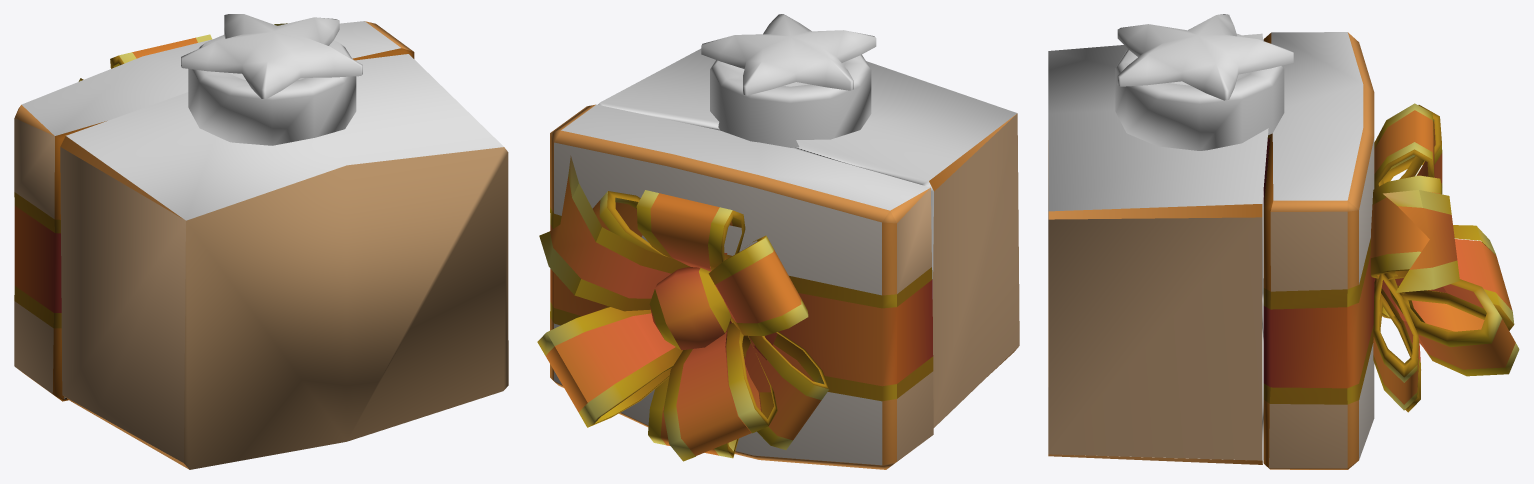
Rendered from trunkProgressionRookie.fbx.
The picture shows the model from 3 angles, left to right: view 1: azimuth 30°, elevation 25°; view 2: azimuth 150°, elevation 25°; view 3: azimuth 270°, elevation 25°; orthographic projection. The views are drawn at different scales.
Parts seen in each view (by area): view 1: trunkProgressionRookie, trunkProgressionLidRookie; view 2: trunkProgressionLidRookie, trunkProgressionRookie; view 3: trunkProgressionRookie, trunkProgressionLidRookie.
Boxes of the visible parts, x1,y1,x2,y2 form: trunkProgressionRookie: (60,14,508,469); trunkProgressionLidRookie: (14,21,414,401); trunkProgressionLidRookie: (537,104,933,469); trunkProgressionRookie: (598,14,1019,427); trunkProgressionRookie: (1048,14,1293,464); trunkProgressionLidRookie: (1263,32,1519,469).
Size of the model in its own units: 59.16 by 57.73 by 66.34.
